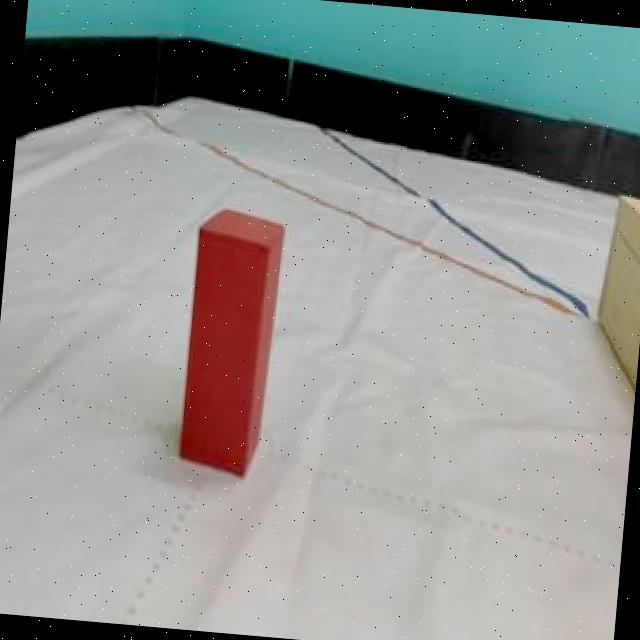redbox: (173, 203, 284, 478)
